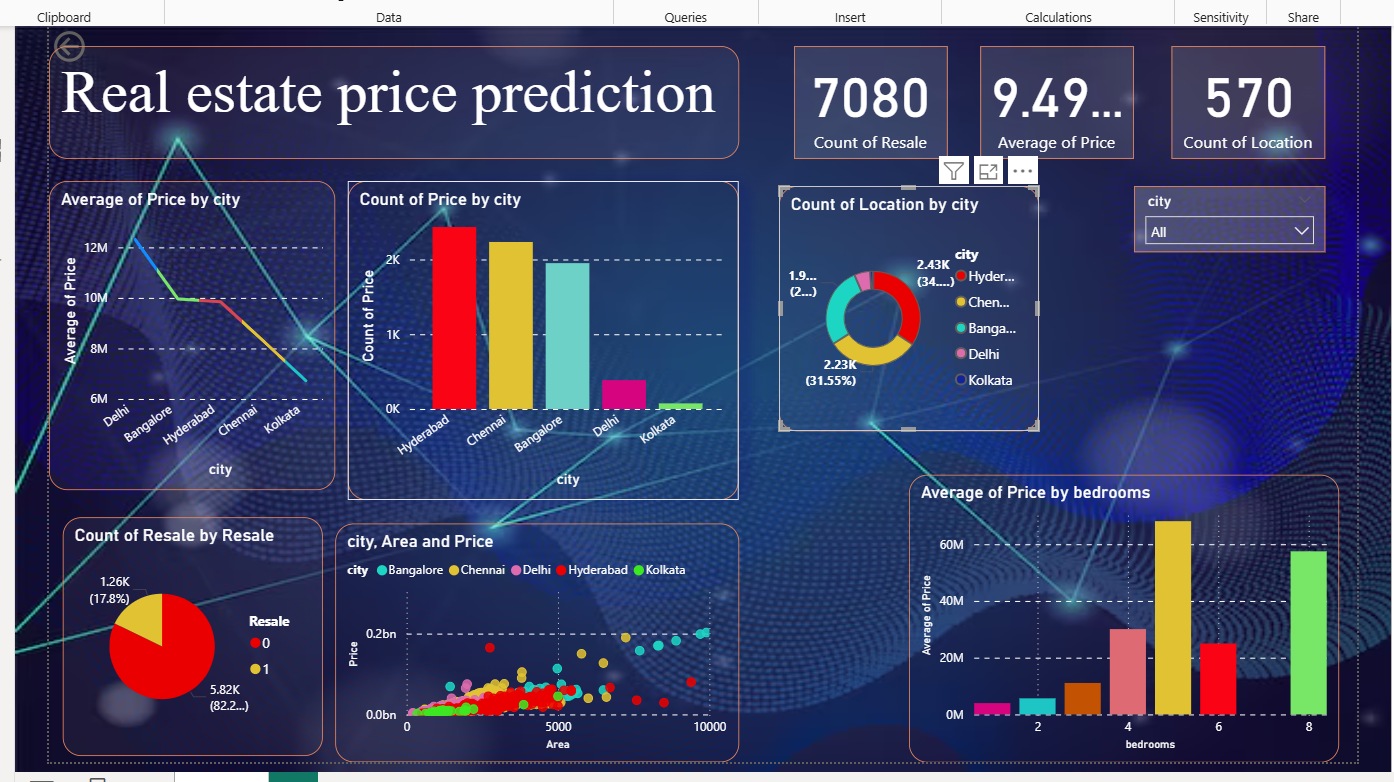

This screenshot's page, from the dashboard's own definition file:
{"tool":"powerbi","page":{"name":"Page 1","canvas":[1280,720],"ordinal":0},"visuals":[{"type":"actionButton","box":[0,0,100.3,40.4],"z":0},{"type":"columnChart","fields":{"Category":["merged_real_estate_data(1).city"],"Y":["CountNonNull(merged_real_estate_data(1).Price)"]},"box":[314.3,440.2,540.5,280],"z":1000},{"type":"clusteredColumnChart","fields":{"Category":["merged_real_estate_data(1). bedrooms"],"Y":["Avg(merged_real_estate_data(1).Price)"]},"box":[865.8,440.2,406,280],"z":2000},{"type":"scatterChart","fields":{"X":["merged_real_estate_data(1).Area"],"Y":["merged_real_estate_data(1).Price"],"Series":["merged_real_estate_data(1).city"]},"box":[314.3,155.3,544.2,271.5],"z":3000},{"type":"donutChart","fields":{"Category":["merged_real_estate_data(1).city"],"Y":["CountNonNull(merged_real_estate_data(1).Location)"]},"box":[880.4,159,391.3,267.8],"z":4000},{"type":"lineChart","fields":{"Y":["Avg(merged_real_estate_data(1).Price)"],"Category":["merged_real_estate_data(1).city"]},"box":[0,150.4,305.7,281.3],"z":5000},{"type":"pieChart","fields":{"Category":["merged_real_estate_data(1).Resale"],"Y":["CountNonNull(merged_real_estate_data(1).Resale)"]},"box":[0,440.2,305.7,280],"z":7000},{"type":"card","fields":{"Values":["Min(merged_real_estate_data(1).Price)"]},"box":[804.6,20.8,150.4,108.8],"z":8000},{"type":"card","fields":{"Values":["CountNonNull(merged_real_estate_data(1).Location)"]},"box":[963.6,20.8,150.4,108.8],"z":9000},{"type":"card","fields":{"Values":["Sum(merged_real_estate_data(1).Resale)"]},"box":[639.5,19.6,150.4,110.1],"z":10000},{"type":"slicer","fields":{"Values":["merged_real_estate_data(1).city"]},"box":[1126.2,20.8,154.1,64.8],"z":11000},{"type":"textbox","box":[0,20.8,627.3,97.8],"z":12000}]}

Visuals, with their boxes on the page's 1280x720 design canvas (x1, y1, x2, y2). These are canvas units, not pixel positions in the 1394x782 screenshot, which may show the page scaled, cropped or inside an application window:
actionButton: box=[0, 0, 100, 40]
columnChart - merged_real_estate_data(1).city x CountNonNull(merged_real_estate_data(1).Price): box=[314, 440, 855, 720]
clusteredColumnChart - merged_real_estate_data(1). bedrooms x Avg(merged_real_estate_data(1).Price): box=[866, 440, 1272, 720]
scatterChart - merged_real_estate_data(1).Area x merged_real_estate_data(1).Price: box=[314, 155, 858, 427]
donutChart - merged_real_estate_data(1).city x CountNonNull(merged_real_estate_data(1).Location): box=[880, 159, 1272, 427]
lineChart - Avg(merged_real_estate_data(1).Price) x merged_real_estate_data(1).city: box=[0, 150, 306, 432]
pieChart - merged_real_estate_data(1).Resale x CountNonNull(merged_real_estate_data(1).Resale): box=[0, 440, 306, 720]
card - Min(merged_real_estate_data(1).Price): box=[805, 21, 955, 130]
card - CountNonNull(merged_real_estate_data(1).Location): box=[964, 21, 1114, 130]
card - Sum(merged_real_estate_data(1).Resale): box=[640, 20, 790, 130]
slicer - merged_real_estate_data(1).city: box=[1126, 21, 1280, 86]
textbox: box=[0, 21, 627, 119]
